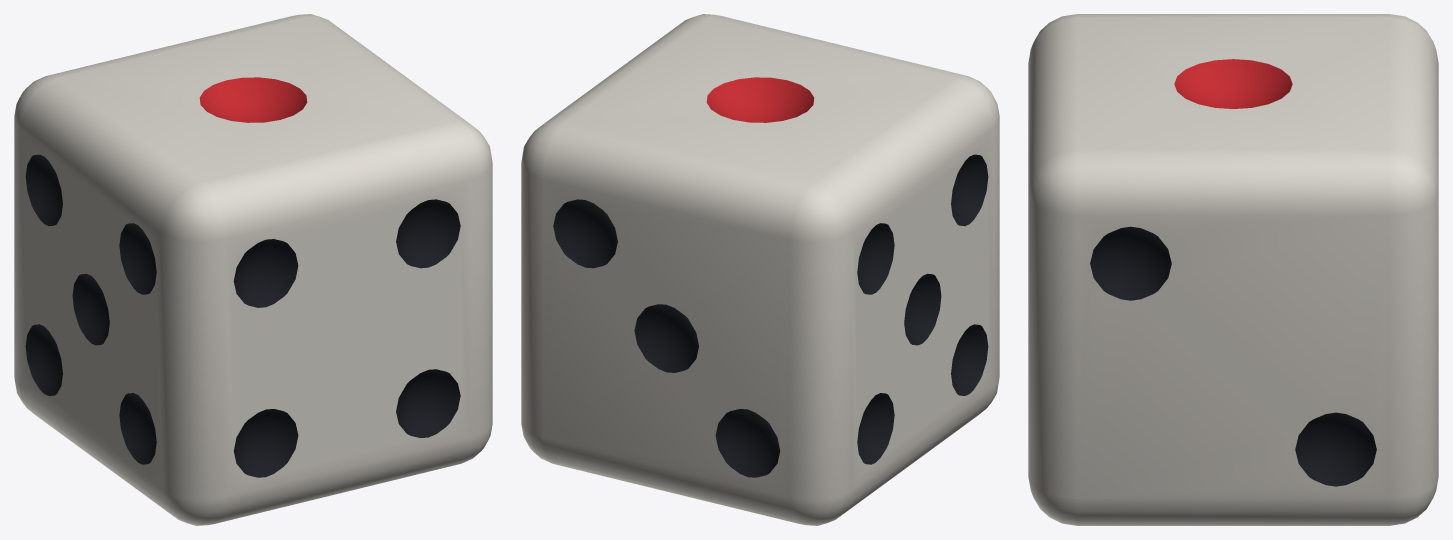
The model's file is die.glb.
3 renders of one model, left to right at view 1: azimuth 30°, elevation 25°; view 2: azimuth 150°, elevation 25°; view 3: azimuth 270°, elevation 25°, orthographic. The views are drawn at different scales.
Parts seen in each view (by area): view 1: Die; view 2: Die; view 3: Die.
Part boxes in pixels (bbox=[...]): Die: bbox=[14, 14, 492, 525]; Die: bbox=[521, 14, 999, 525]; Die: bbox=[1028, 14, 1438, 525].
Size of the model in its own units: 2 by 2 by 2.
